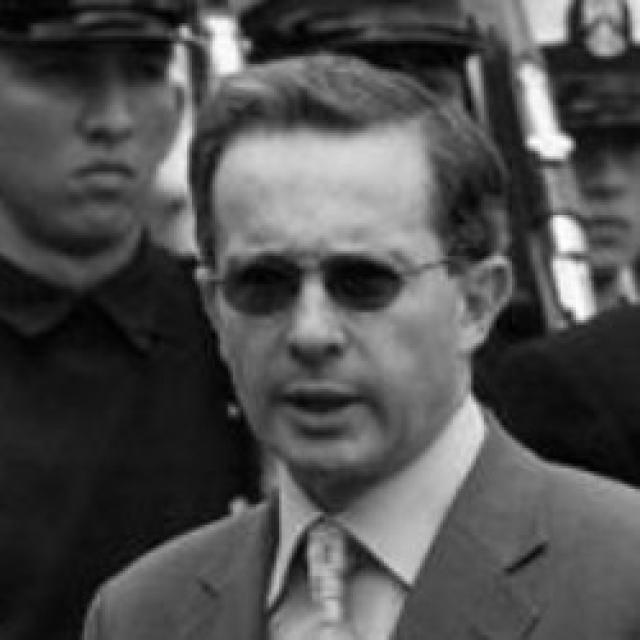fake: (229, 241, 407, 322)
real: (209, 132, 454, 480)
